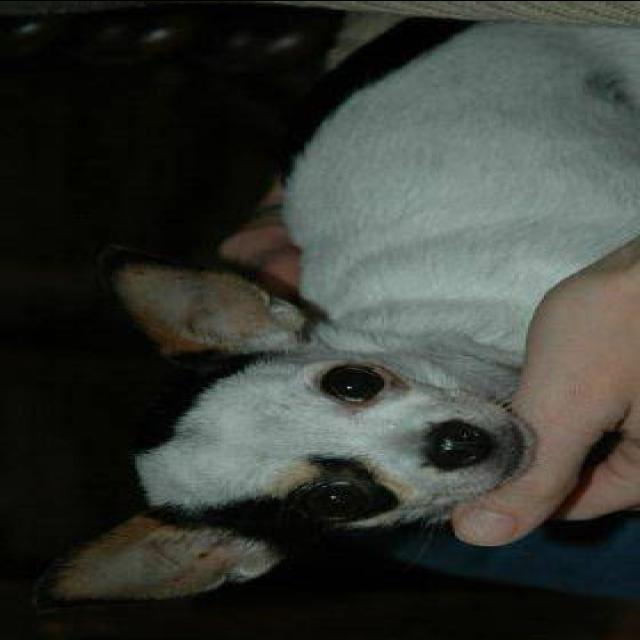dog: (39, 21, 640, 609)
